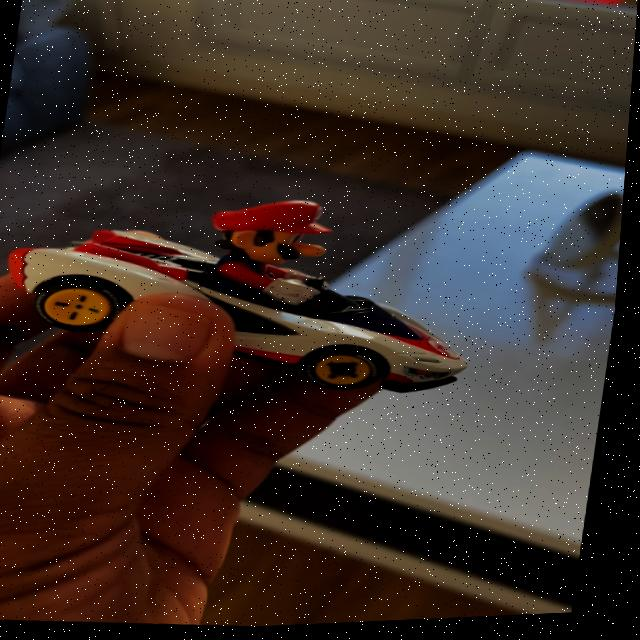mario: (10, 168, 546, 423)
